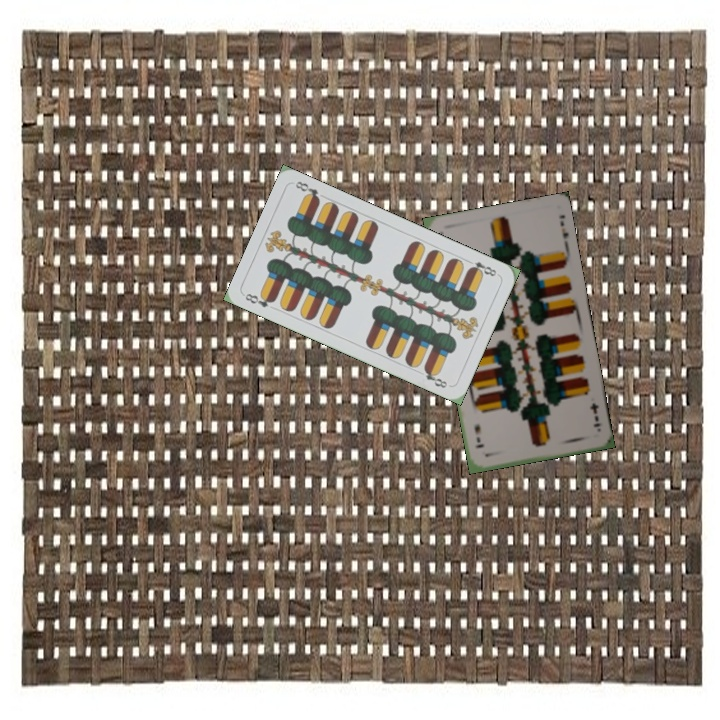E7: (586, 399, 603, 429)
E8: (463, 256, 499, 279), (241, 289, 278, 310)
